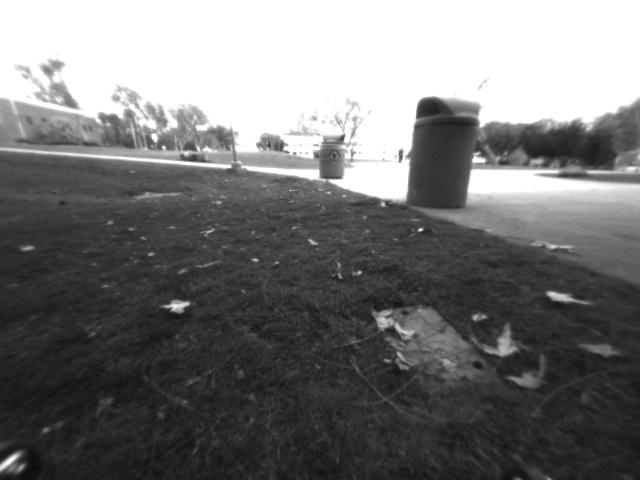trashcan: (392, 82, 500, 212)
